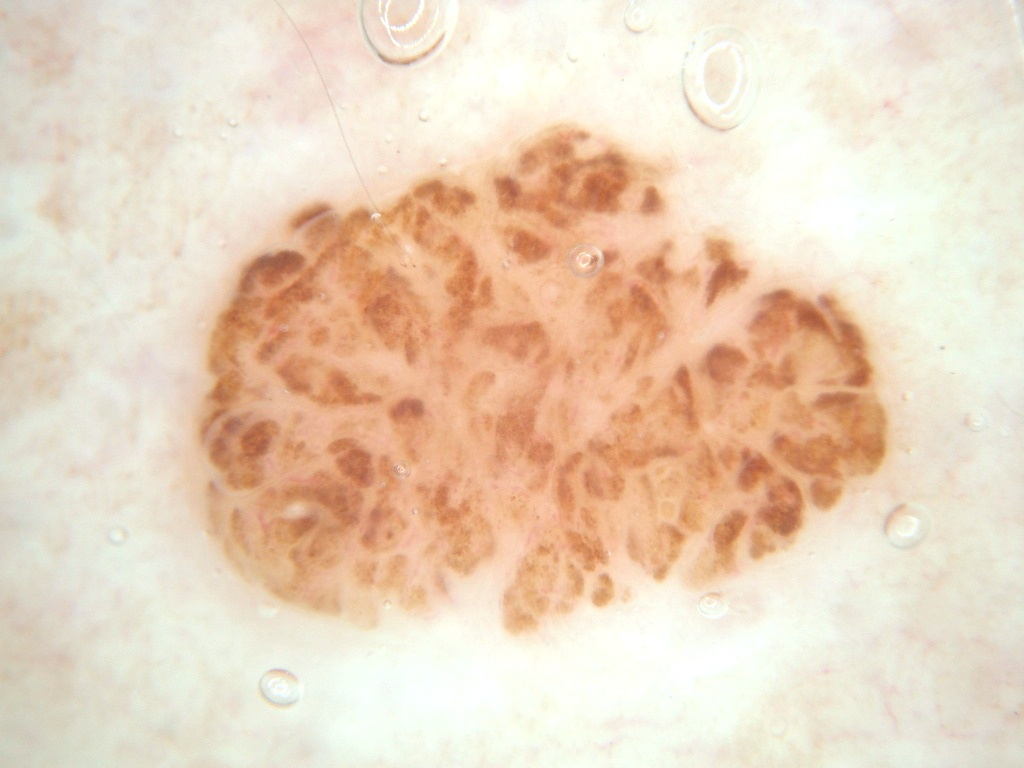Detected Lesion: (186, 120, 892, 649)
